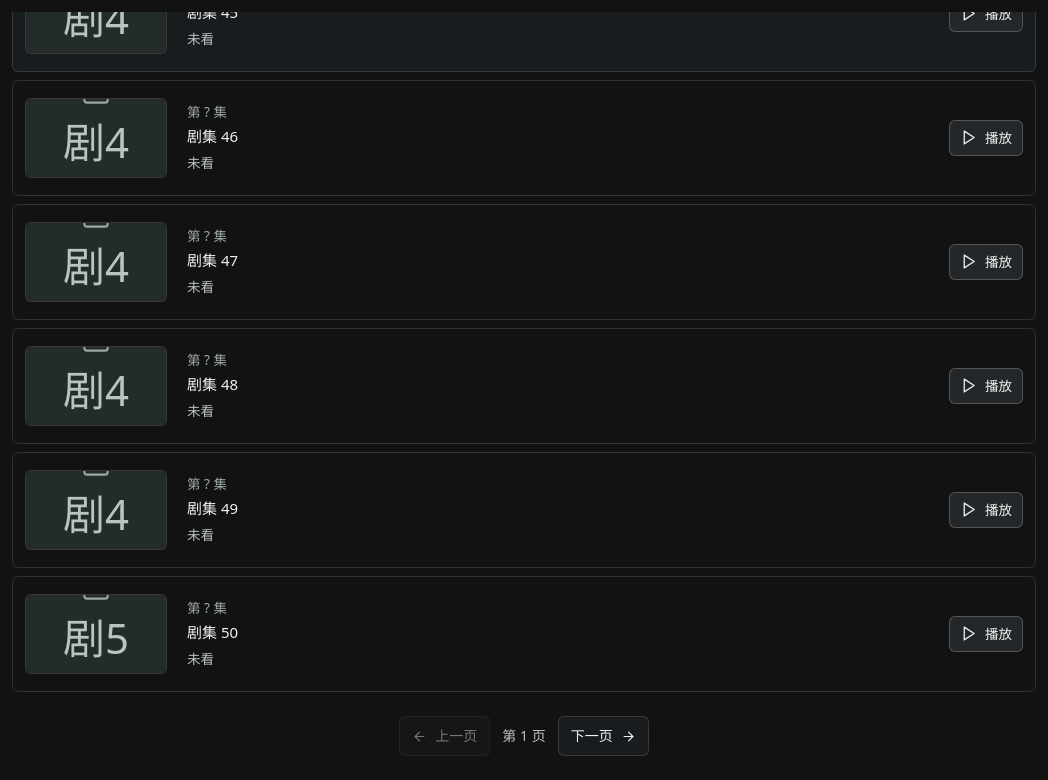
Test: reaches episodes beyond the first page when the server reports a zero total
(page scrolled)
Expected: the text "第 1 页" is shown, [502,725,546,747]
What coordinates should you click on to do the following:
click the button "下一页"
I would click on:
 (603, 736)
Its box is [558,716,649,756].
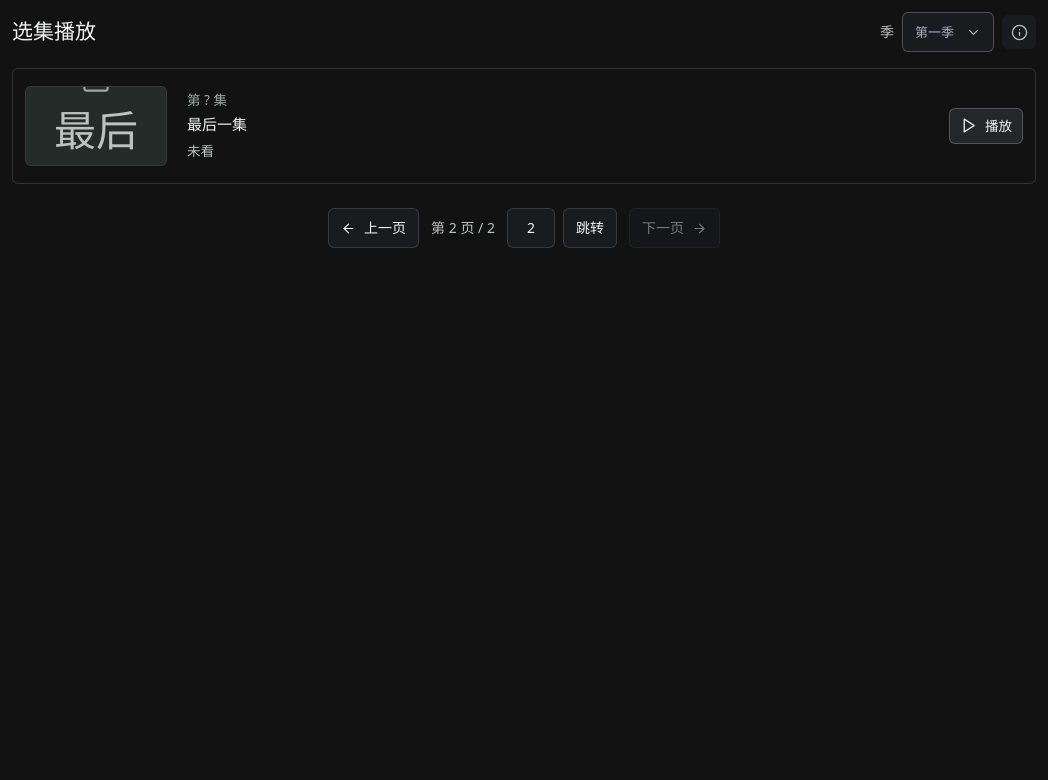
Now the button "最后 暂无封面 第 ? 集 最后一集 未看" is shown, box [25,86,929,166]
Now the text "第 2 页 / 2" is shown, box [431,217,495,239]
Now the button "下一页" is disabled, box [629,208,720,248]
